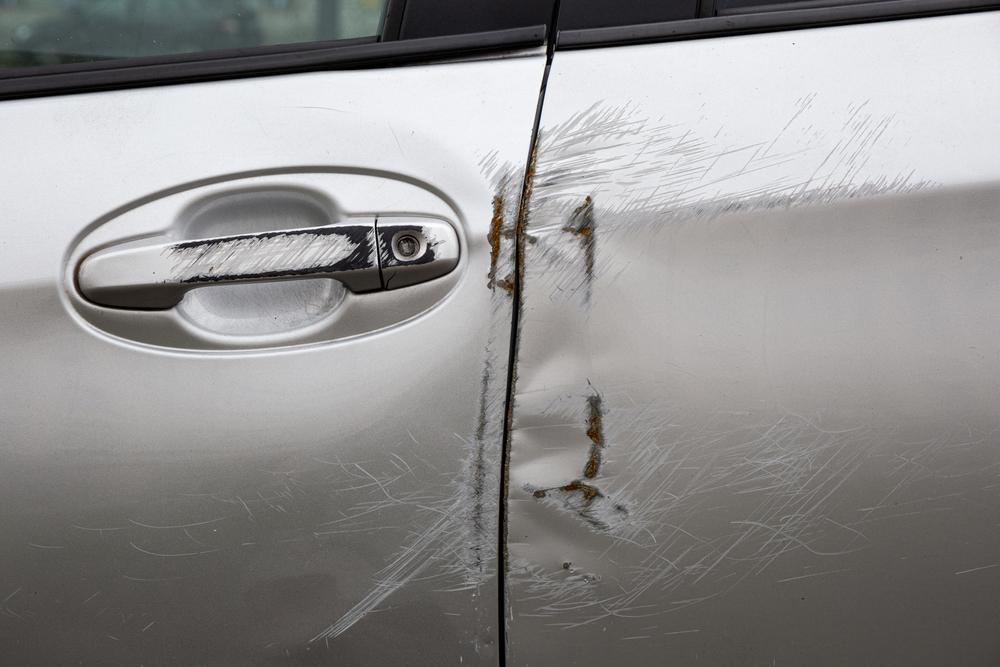dent: (506, 332, 606, 573)
scratch: (40, 143, 533, 647), (507, 383, 1000, 644), (520, 87, 953, 316), (160, 224, 438, 284)
